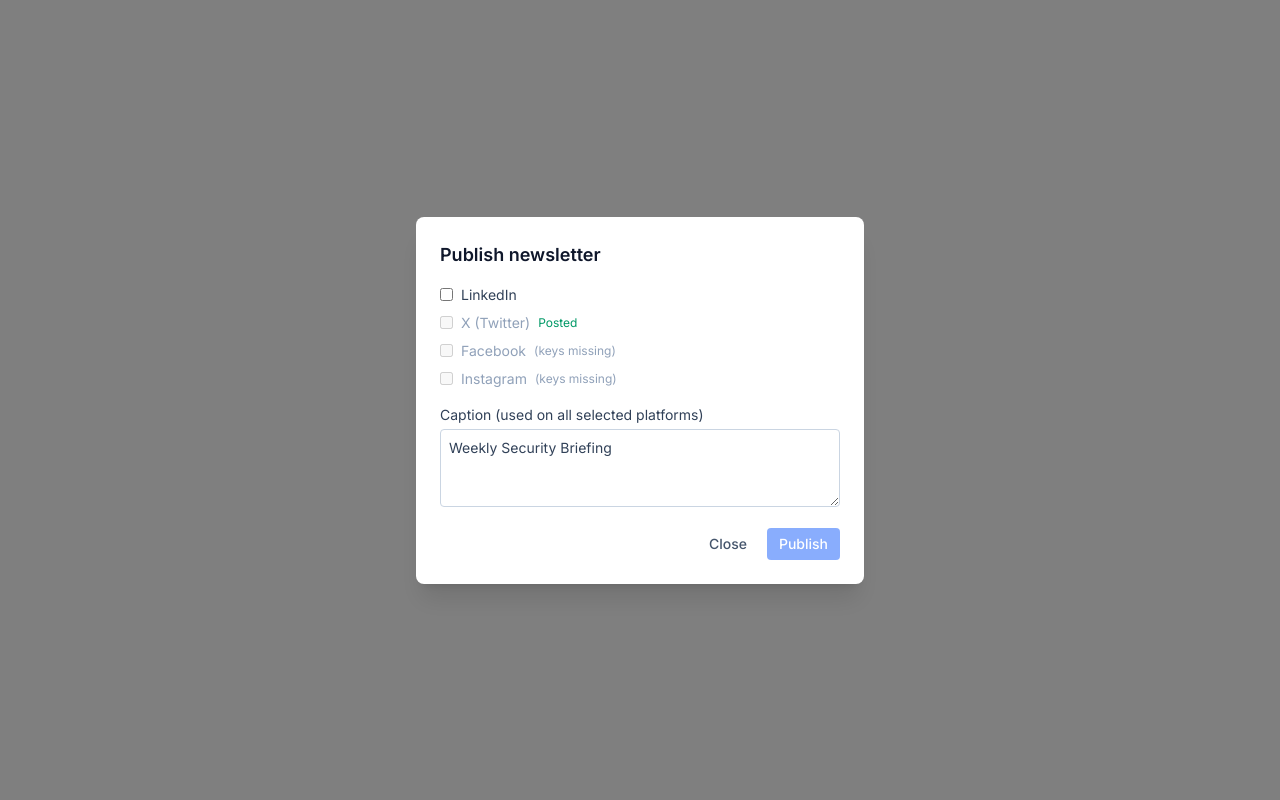
it: PublishModal › shows the publish error when the request fails
Click the checkbox labelled "LinkedIn" at (446, 294), box [440, 288, 453, 301]
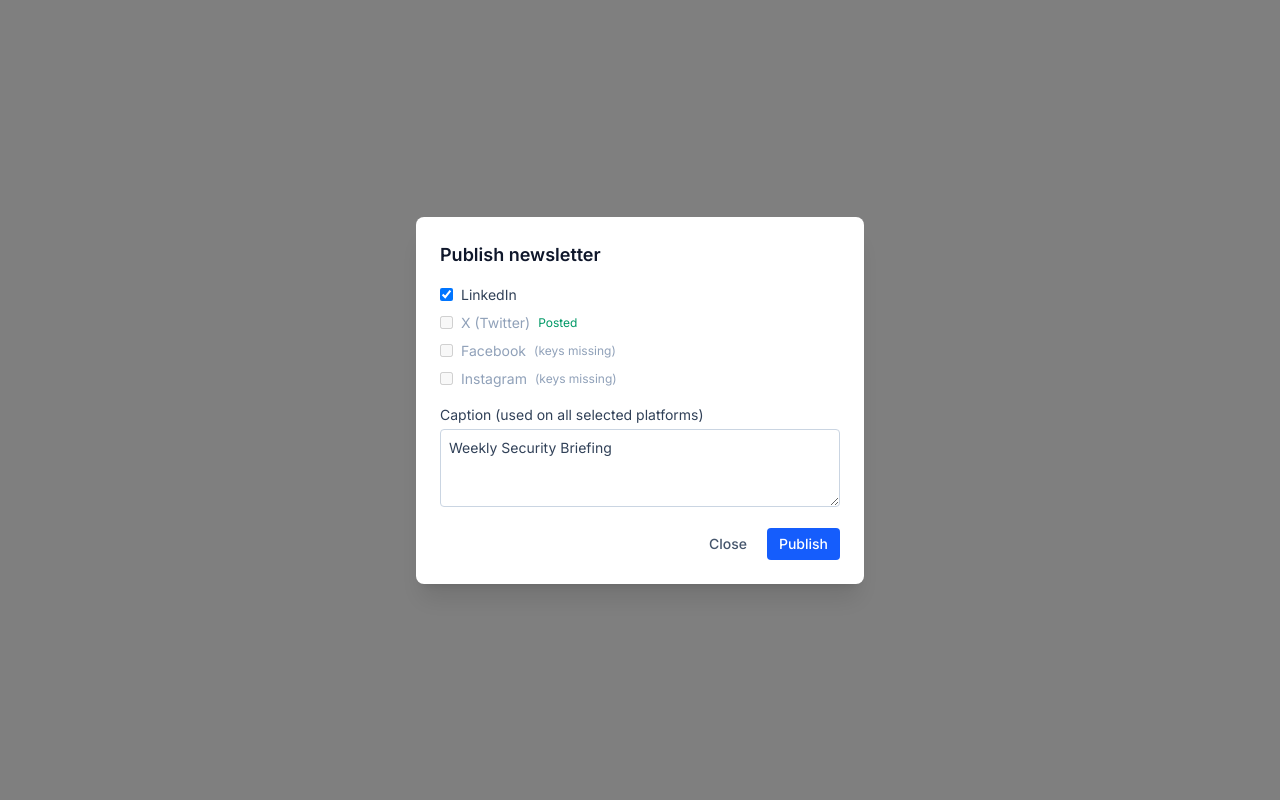
Click the button "Publish" at (803, 544), box [767, 528, 840, 560]
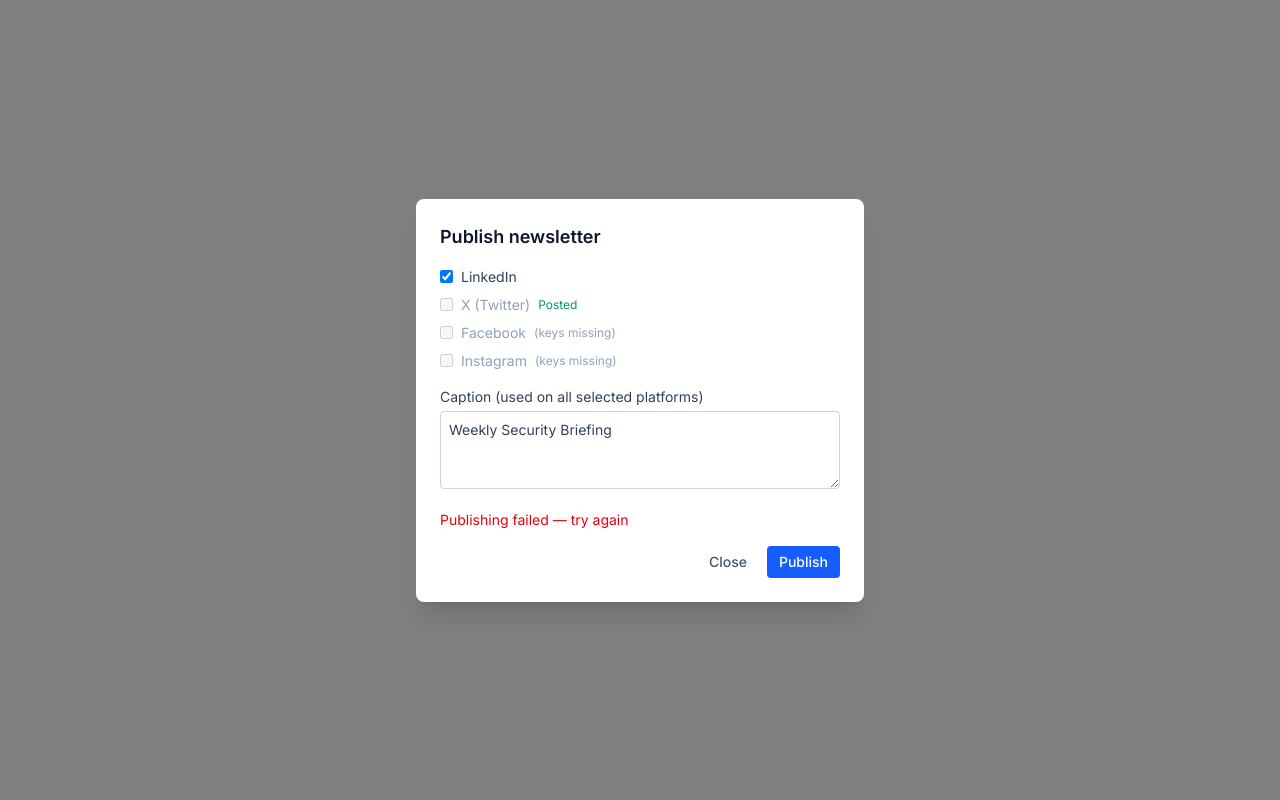
Check: the text "Publishing failed — try again" is shown, box [440, 510, 628, 528]
